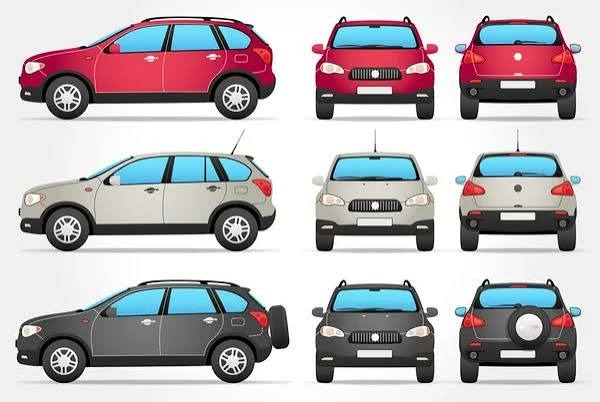car: (11, 277, 278, 381), (18, 11, 272, 119), (18, 153, 275, 252), (311, 17, 437, 121), (314, 284, 440, 384), (457, 282, 579, 380), (312, 155, 437, 246), (461, 19, 574, 116), (456, 155, 576, 243)
